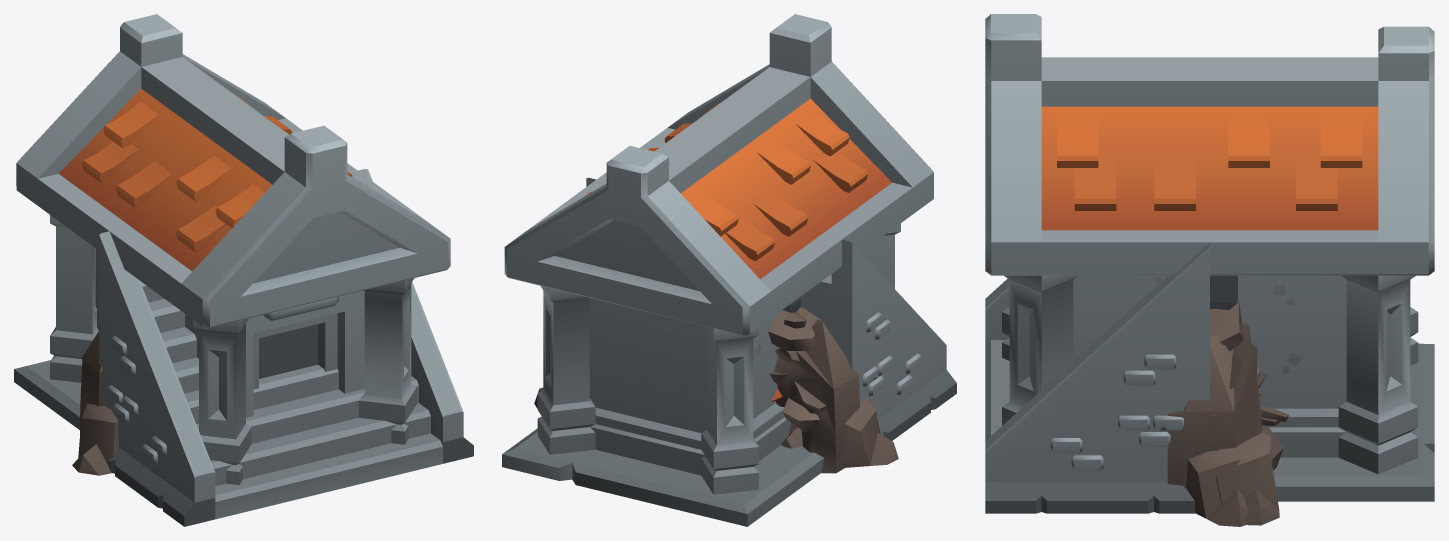
Rendered from env.glb.
3 views of the same model, side by side, from view 1: azimuth 30°, elevation 25°; view 2: azimuth 150°, elevation 25°; view 3: azimuth 270°, elevation 25° (orthographic). The views are drawn at different scales.
Visible parts, largest first — view 1: hw_crypt, stairs_wide, rubble_large; view 2: hw_crypt, stairs_wide, rubble_large; view 3: hw_crypt, stairs_wide, rubble_half, rubble_large, wall.
Boxes of the visible parts, x1,y1,x2,y2 form: hw_crypt: (14, 14, 450, 484); stairs_wide: (99, 168, 473, 526); rubble_large: (72, 330, 119, 475); hw_crypt: (502, 14, 933, 526); stairs_wide: (586, 177, 956, 440); rubble_large: (768, 307, 898, 473); hw_crypt: (985, 14, 1434, 501); stairs_wide: (985, 242, 1209, 513); rubble_half: (1184, 302, 1288, 525); rubble_large: (1167, 353, 1279, 526); wall: (1210, 275, 1237, 310).
Size of the model in its own units: 8.13 by 8.91 by 8.
5 materials, 5 textured.
